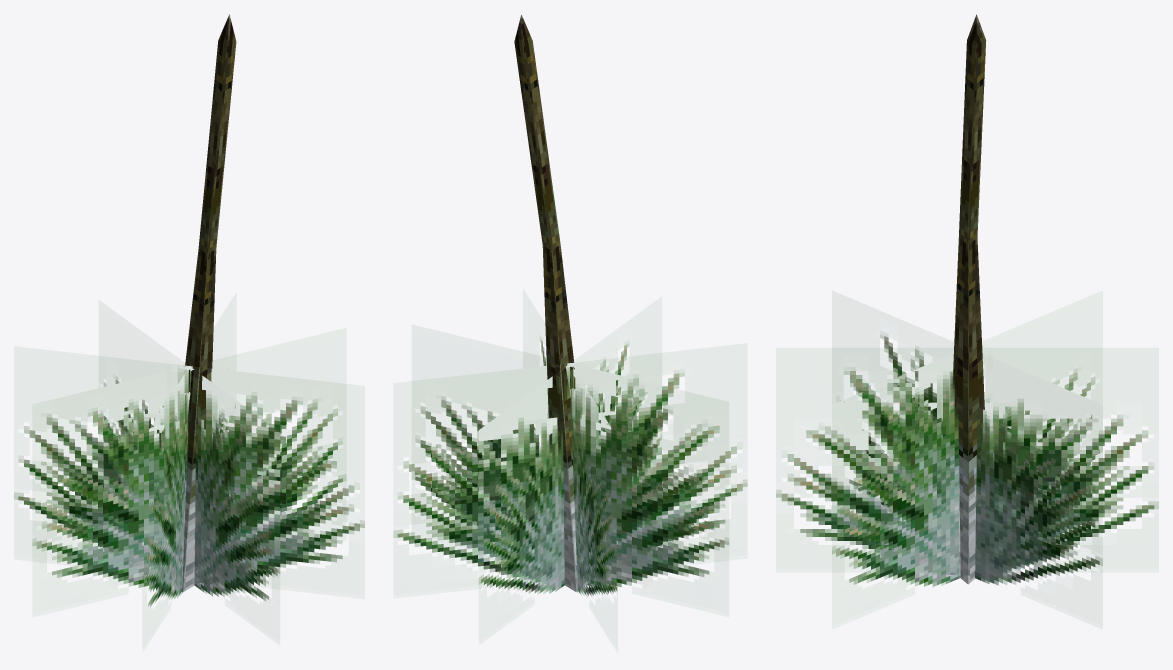
File: Environment - Debris and Ruins - Rubble Mound - Debris - PMYakaSnw.glb
The picture shows the model from 3 angles, left to right: view 1: azimuth 30°, elevation 25°; view 2: azimuth 150°, elevation 25°; view 3: azimuth 270°, elevation 25°; orthographic projection. The views are drawn at different scales.
Parts seen in each view (by area): view 1: PMYAKASNW; view 2: PMYAKASNW; view 3: PMYAKASNW.
Part boxes in pixels (left/top/right/bottom): PMYAKASNW: left=14, top=14, right=364, bottom=607; PMYAKASNW: left=393, top=14, right=747, bottom=596; PMYAKASNW: left=776, top=14, right=1158, bottom=586.
Size of the model in its own units: 10.94 by 18.45 by 10.94.
1 material, 1 textured.
